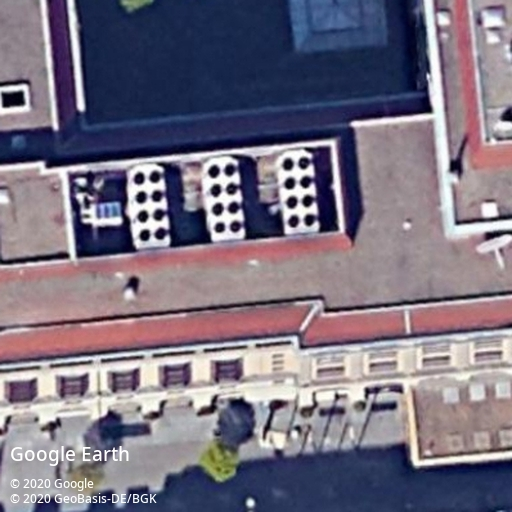Chiller: (125, 161, 174, 251), (200, 152, 249, 242), (273, 146, 322, 236)
